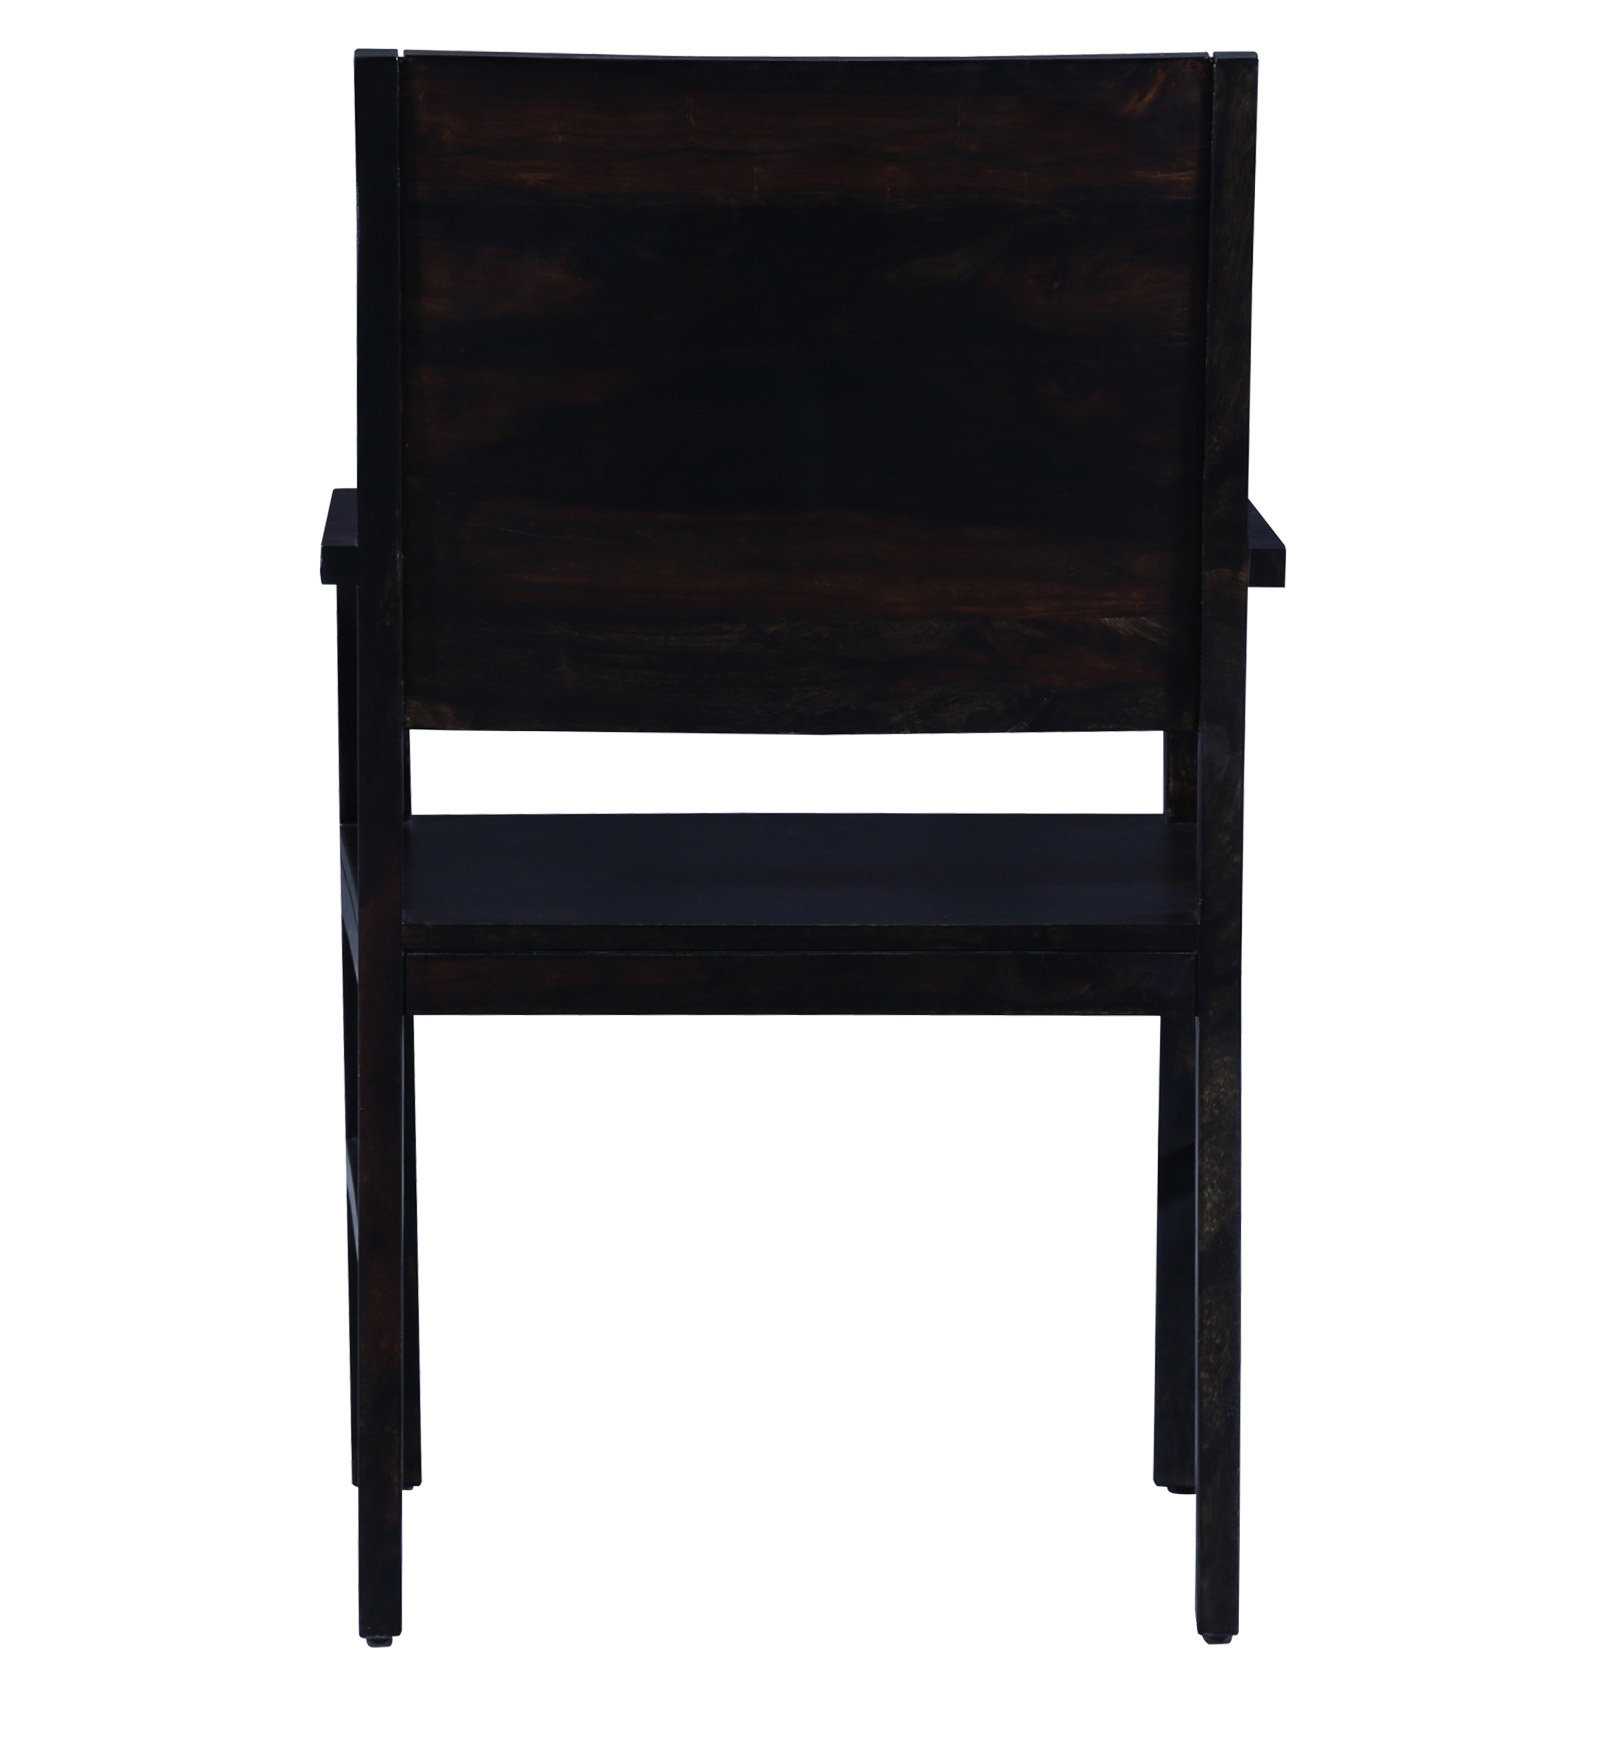Oriel Arm Chair in Warm Chestnut Finish by Woodsworth: (307, 28, 1284, 1653)
